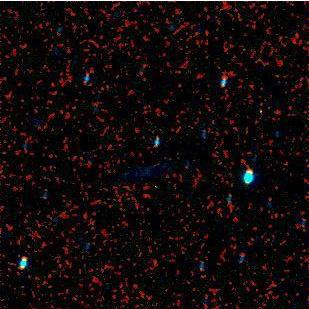star: (144, 176, 174, 206)
